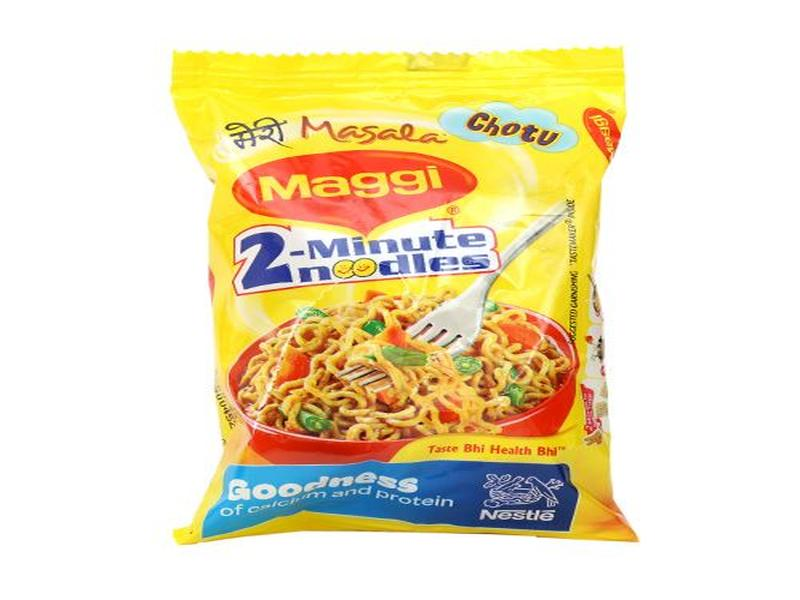maggi-small: (169, 49, 641, 543)
